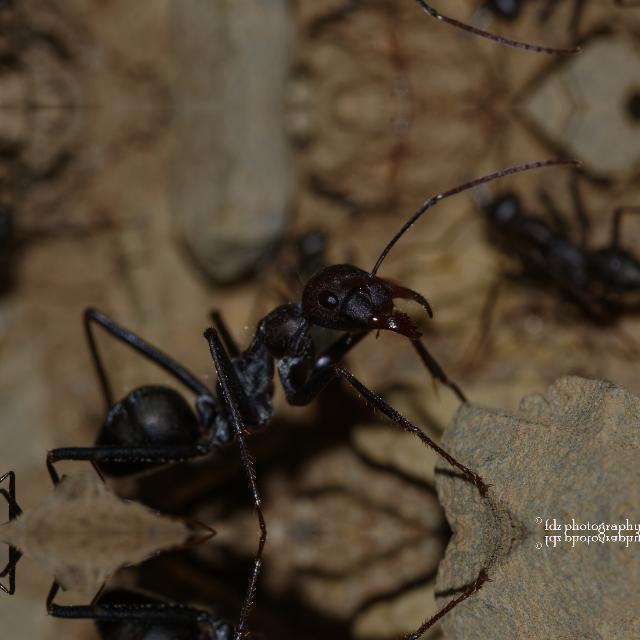Cataglyphis: (8, 203, 492, 529), (8, 536, 492, 640), (440, 158, 638, 328), (440, 0, 638, 54)
